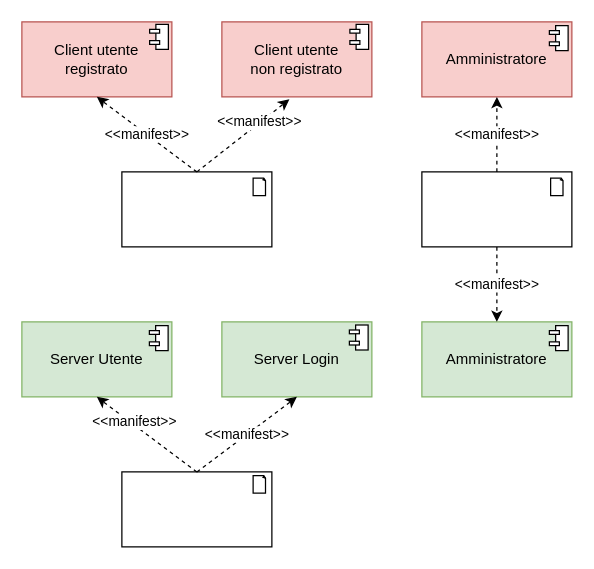
This 594x569 diagram has some shape labels left out. Each missing label, with the centre of its shape:
"alexandria.war" belongs at (x=196, y=509).
"amministratore.jar" belongs at (x=496, y=209).
"Client (file html, JSP, Javascript, CSS)" belongs at (x=196, y=209).
